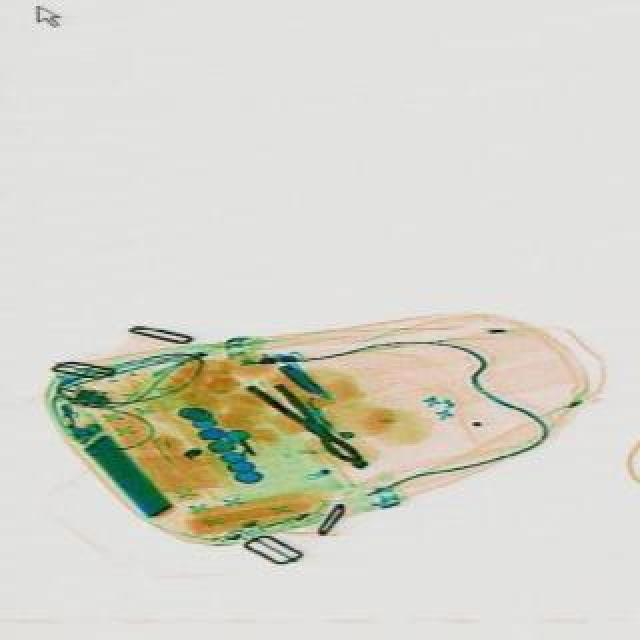wrench: (242, 366, 368, 478)
